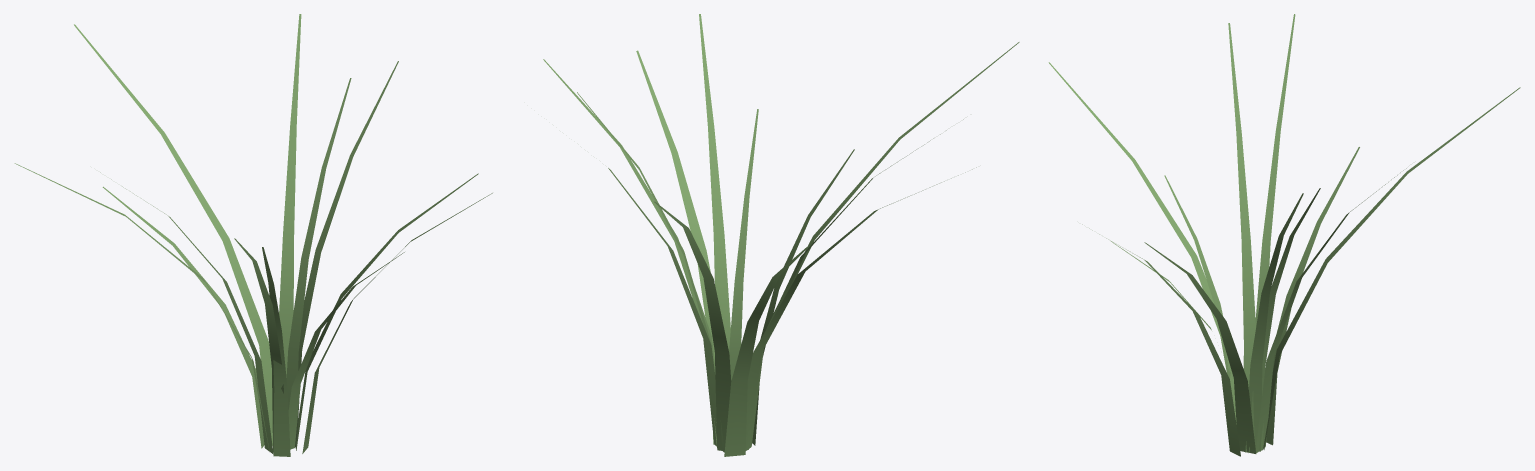
File: grass_tuft_5.glb
3 views of the same model, side by side, from view 1: azimuth 30°, elevation 25°; view 2: azimuth 150°, elevation 25°; view 3: azimuth 270°, elevation 25° (orthographic). The views are drawn at different scales.
Visible parts, largest first — view 1: grass_tuft_5; view 2: grass_tuft_5; view 3: grass_tuft_5.
Boxes of the visible parts, box(x1,y1,x2,y2) form: grass_tuft_5: box(14, 14, 492, 456); grass_tuft_5: box(543, 14, 1019, 456); grass_tuft_5: box(1048, 14, 1520, 456).
Bounding box in the file's own units: 1.43 × 1.22 × 1.56.
